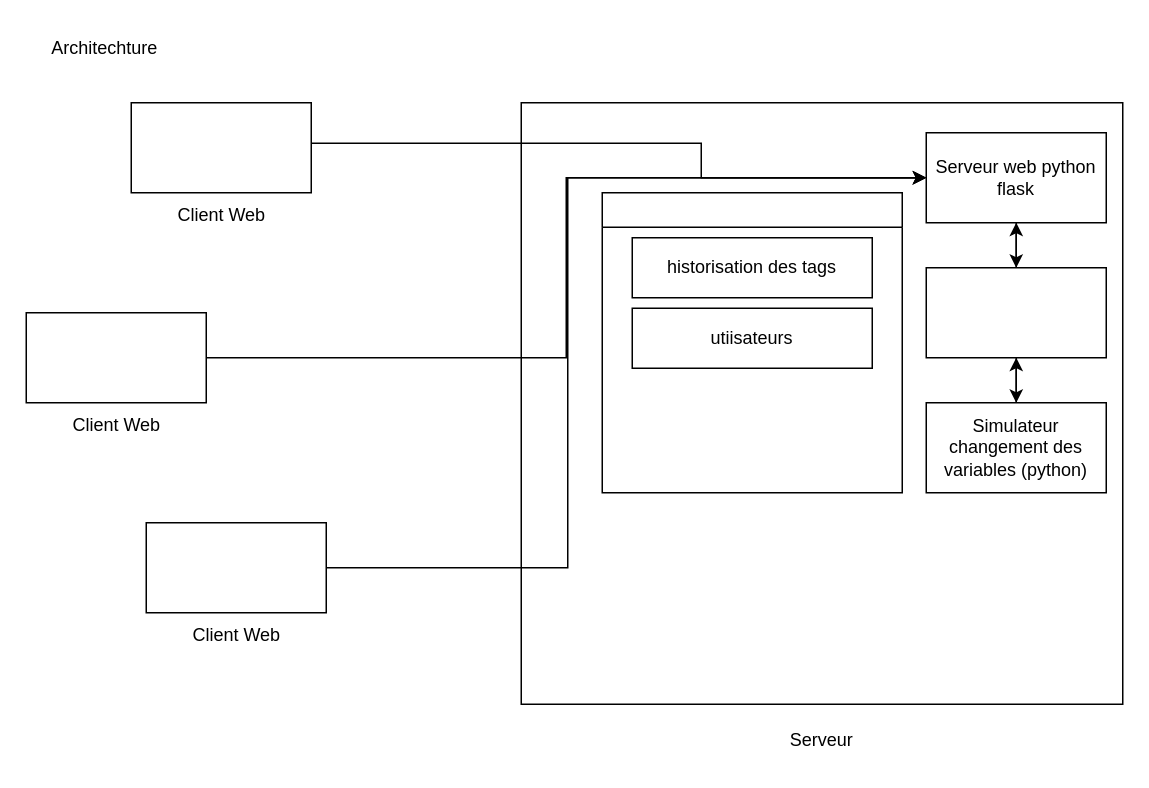
The diagram is 1149 pixels wide and 788 high, and some of its shapes have lost their labels. Here are the shapes that lost their labels. From the top down, the box of each, then its label:
(925, 266, 1106, 358): Serveur OPC
(601, 191, 902, 493): BDD
